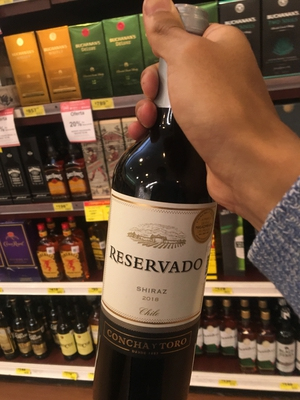reservado shiraz: (96, 40, 230, 400)
